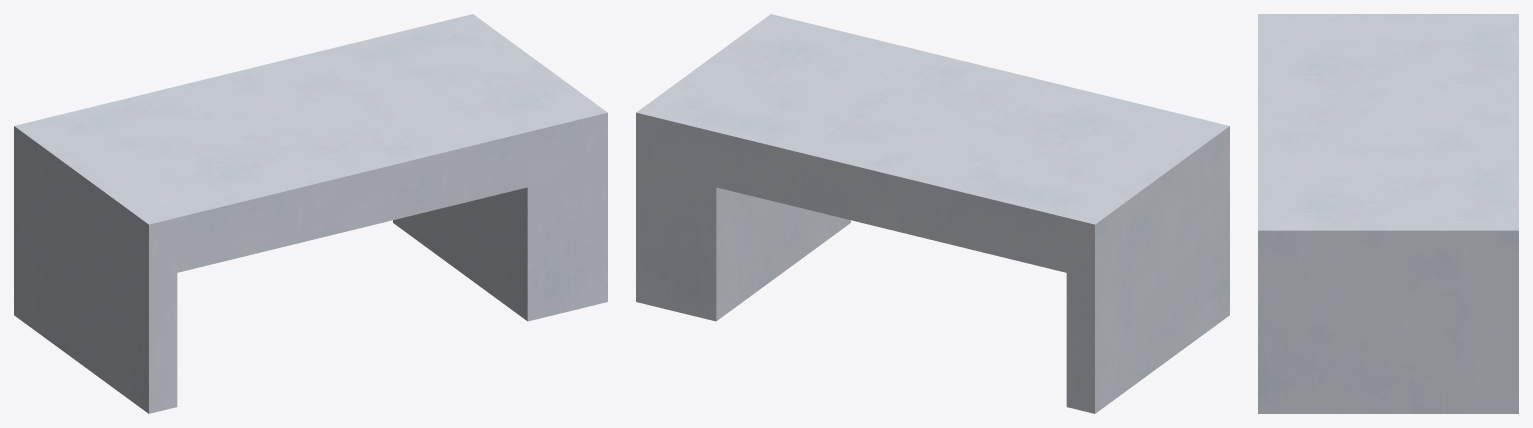
Rendered from Table_33.glb.
3 renders of one model, left to right at view 1: azimuth 30°, elevation 25°; view 2: azimuth 150°, elevation 25°; view 3: azimuth 270°, elevation 25°, orthographic. The views are drawn at different scales.
Parts seen in each view (by area): view 1: Table_33; view 2: Table_33; view 3: Table_33.
Part boxes in pixels (x1,y1,x2,y2): Table_33: (14,14,607,413); Table_33: (636,14,1229,413); Table_33: (1258,14,1518,413).
Bounding box in the file's own units: 1.29 × 0.5069 × 0.6539.
1 material, 1 textured.
